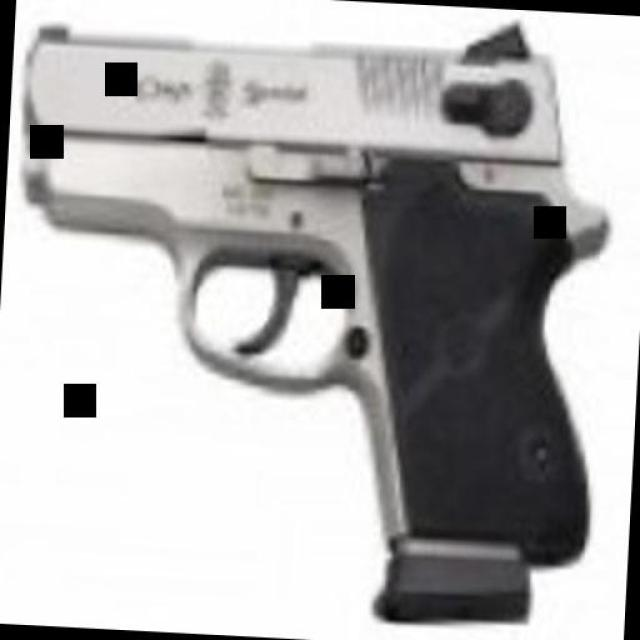gun: (0, 9, 618, 640)
